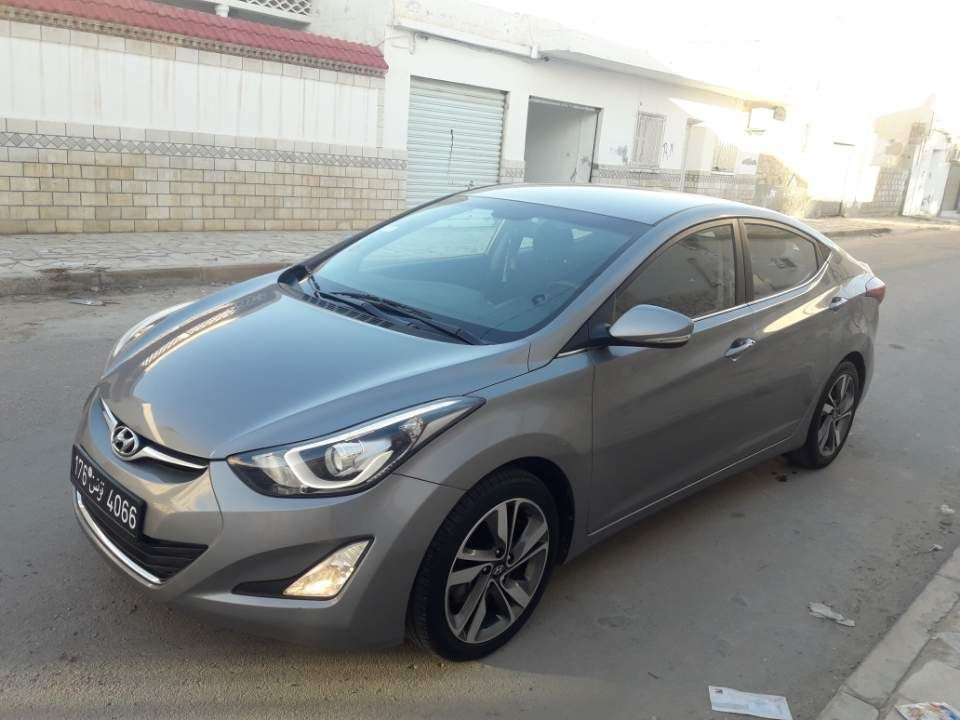LP: (70, 444, 142, 536)
